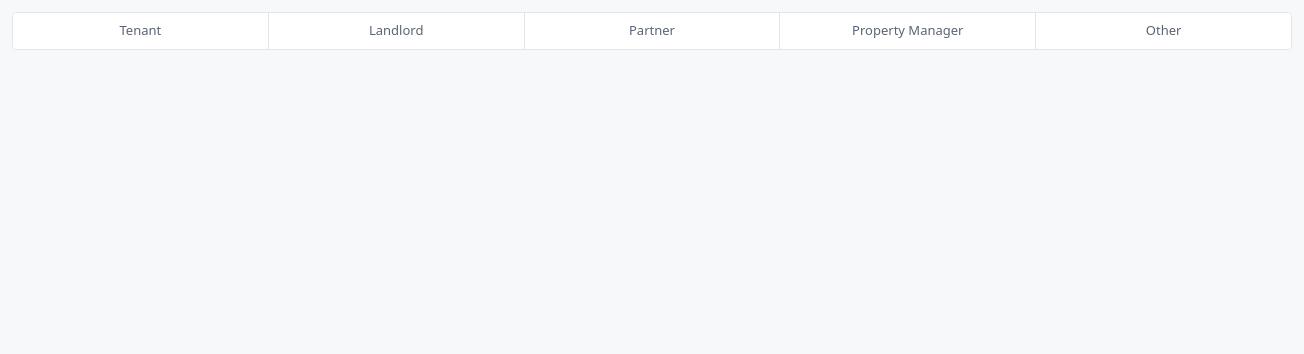
Test: KindPicker › clicking Other reveals a role input and the base-record-shape options
Click the button "Other".
click(1164, 31)  # box [1036,13,1291,48]
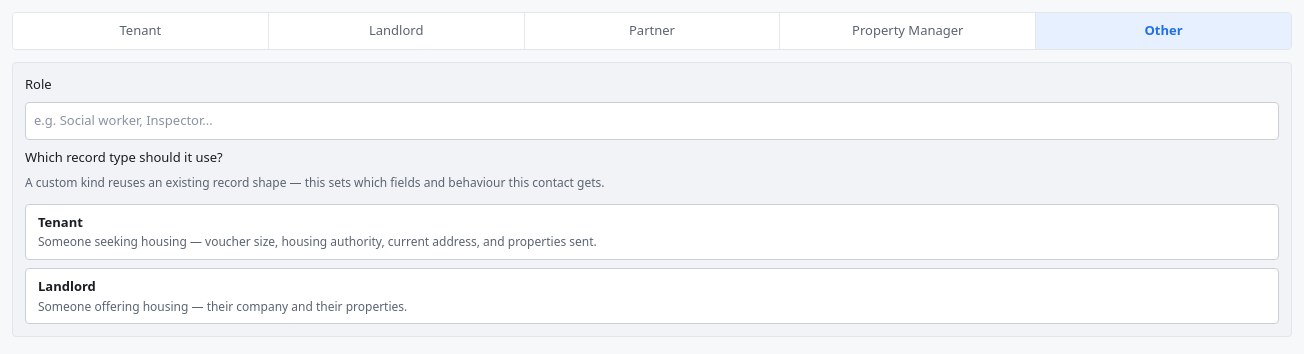
Result: the field labelled "Role" is shown at [25,102,1279,140]
Result: the element "Which record type" is shown at [25,148,1279,324]
Result: the radio button labelled "Tenant" is shown at [25,204,1279,260]
